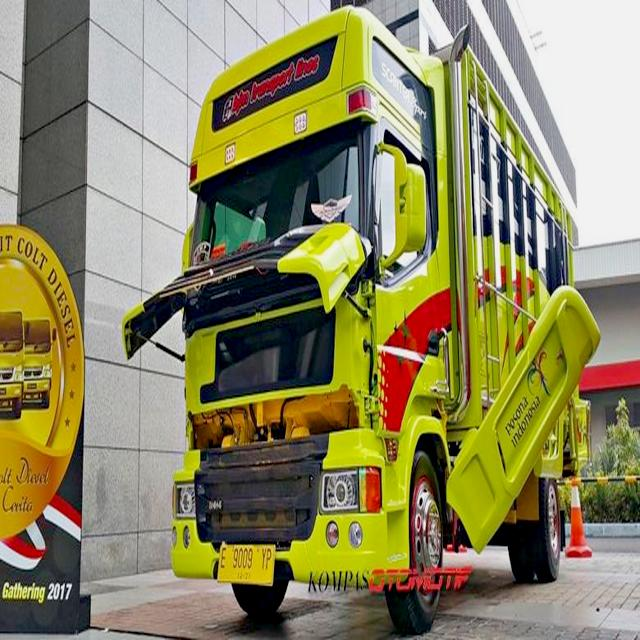truck: (125, 1, 576, 630)
